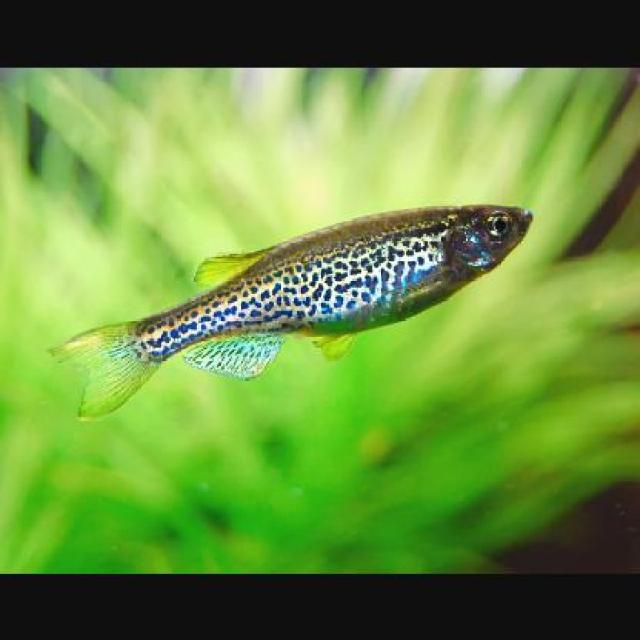ZebraFish: (47, 203, 535, 419)
